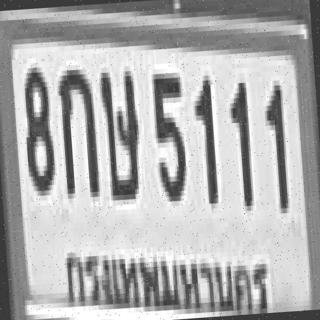A01: (55, 64, 97, 194)
A39: (98, 66, 141, 196)
N01: (190, 70, 216, 199), (262, 80, 288, 209), (227, 78, 252, 207)
N05: (149, 68, 186, 197)
N08: (19, 62, 54, 192)
P04: (58, 220, 274, 320)
